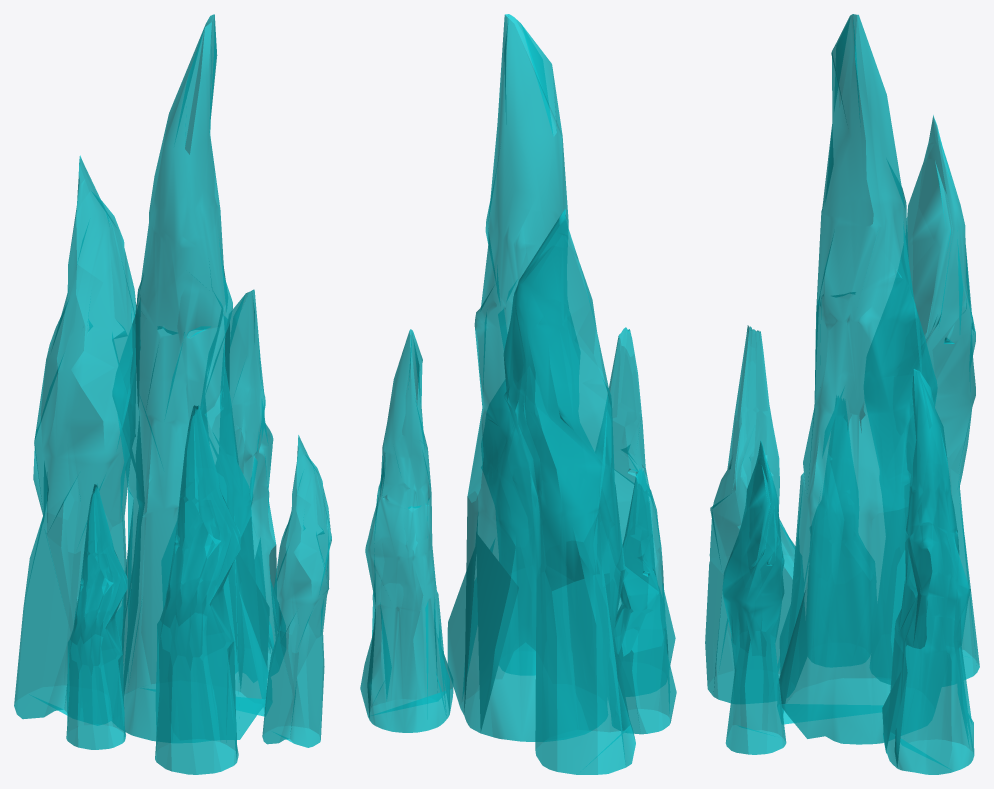
File: 3D_IceGroup 1.fbx
The picture shows the model from 3 angles, left to right: view 1: azimuth 30°, elevation 25°; view 2: azimuth 150°, elevation 25°; view 3: azimuth 270°, elevation 25°; orthographic projection. The views are drawn at different scales.
Parts seen in each view (by area): view 1: Cylinder.001, Cylinder.005, Cylinder.009, Cylinder.010, Cylinder.002, Cylinder.011; view 2: Cylinder.001, Cylinder.005, Cylinder.011, Cylinder.002, Cylinder.009; view 3: Cylinder.001, Cylinder.011, Cylinder.005, Cylinder.010, Cylinder.009.
Part boxes in pixels (x1,y1,x2,y2): Cylinder.001: (112,14,269,741); Cylinder.005: (14,155,140,719); Cylinder.009: (155,405,240,774); Cylinder.010: (262,435,331,747); Cylinder.002: (66,484,127,749); Cylinder.011: (229,289,278,672); Cylinder.001: (447,14,589,741); Cylinder.005: (503,209,635,774); Cylinder.011: (360,329,453,732); Cylinder.002: (614,468,676,734); Cylinder.009: (609,327,675,664); Cylinder.001: (779,14,937,744); Cylinder.011: (882,369,974,774); Cylinder.005: (875,115,979,684); Cylinder.010: (722,440,786,754); Cylinder.009: (705,325,807,702).
Bounding box in the file's own units: 392 × 1009 × 351.
